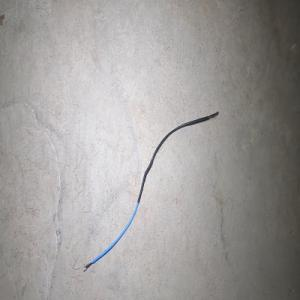Wire: (81, 110, 219, 272)
